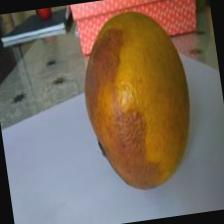Orange Rotten: (59, 0, 216, 200)
